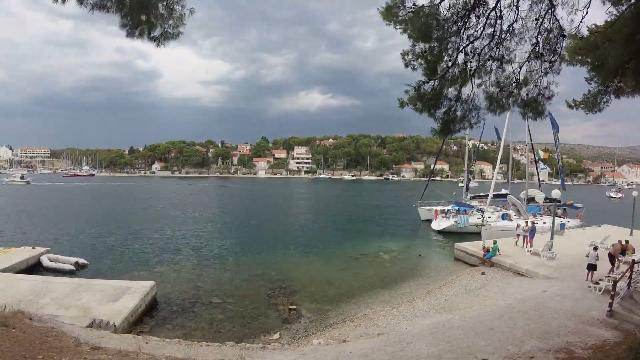ferry: (1, 169, 38, 189)
